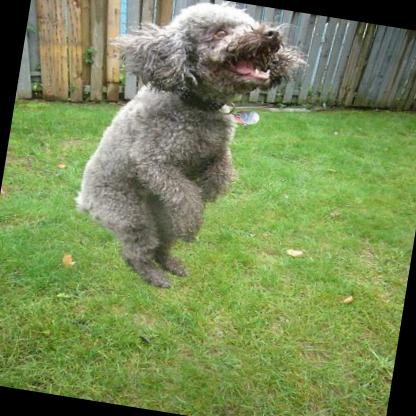miniature_poodle: (68, 0, 316, 303)
